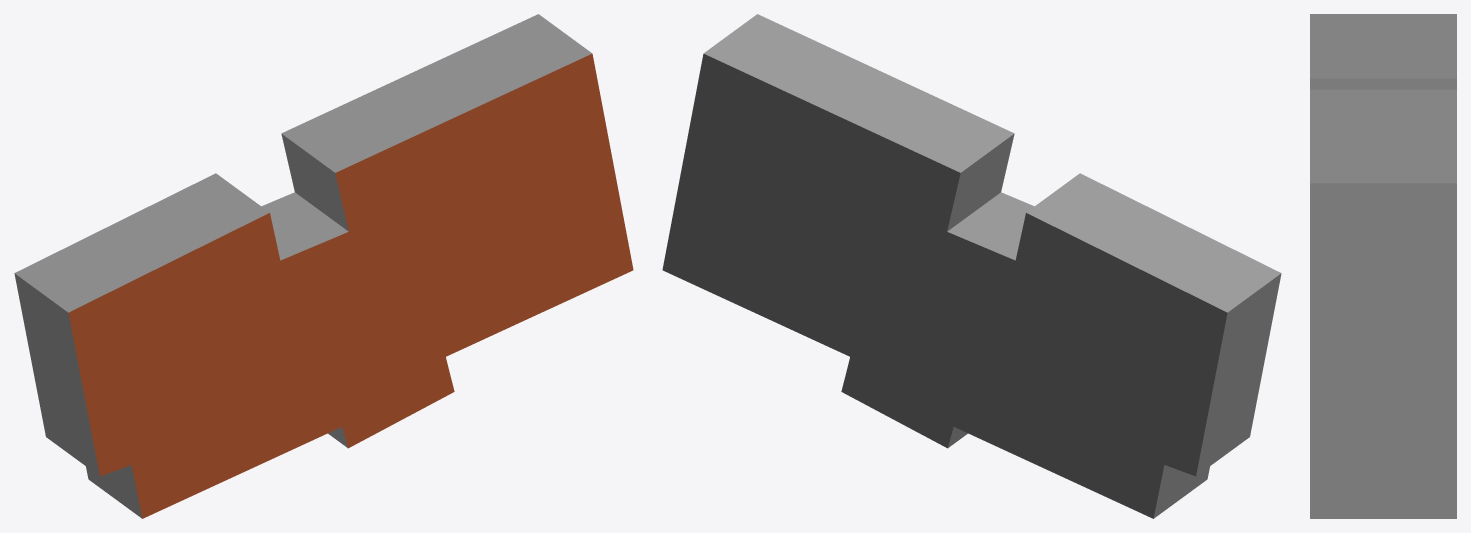
Rendered from construction_1611_assumed_A_Casa_h6m.obj.
The picture shows the model from 3 angles, left to right: view 1: azimuth 30°, elevation 25°; view 2: azimuth 150°, elevation 25°; view 3: azimuth 270°, elevation 25°; orthographic projection. The views are drawn at different scales.
Visible parts, largest first — view 1: construction_1611_assumed_A_Casa; view 2: construction_1611_assumed_A_Casa; view 3: construction_1611_assumed_A_Casa.
Part boxes in pixels (x1,y1,x2,y2): construction_1611_assumed_A_Casa: (14,14,633,518); construction_1611_assumed_A_Casa: (662,14,1281,518); construction_1611_assumed_A_Casa: (1310,14,1456,518).
Size of the model in its own units: 36.26 by 21.8 by 6.
